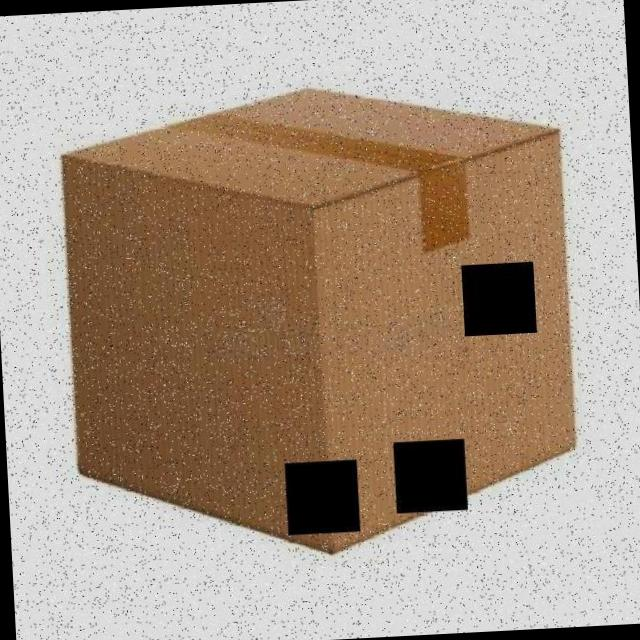box: (50, 71, 595, 578)
